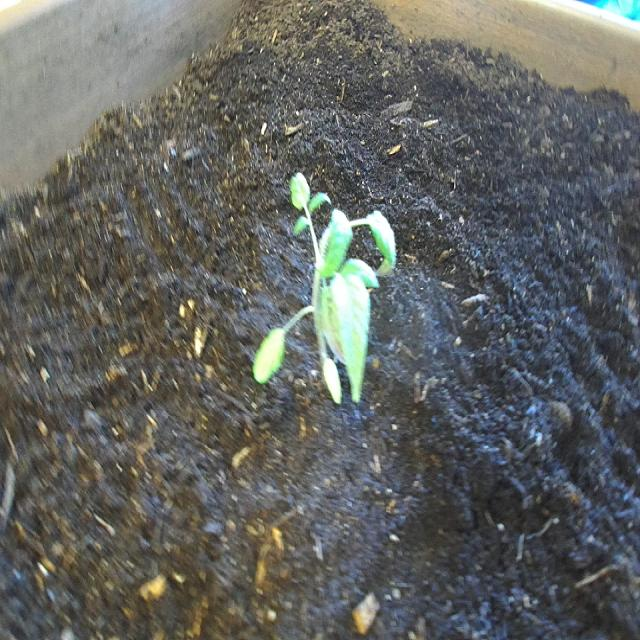Healthy: (245, 164, 403, 416)
